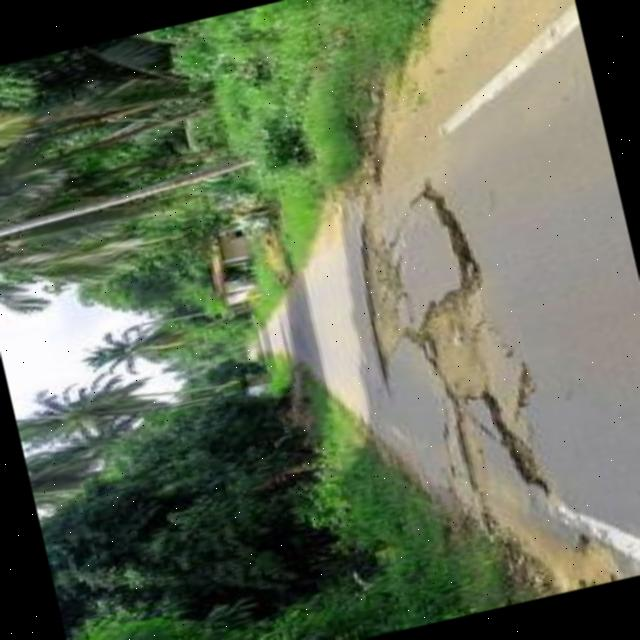road collapse: (183, 135, 602, 601)
